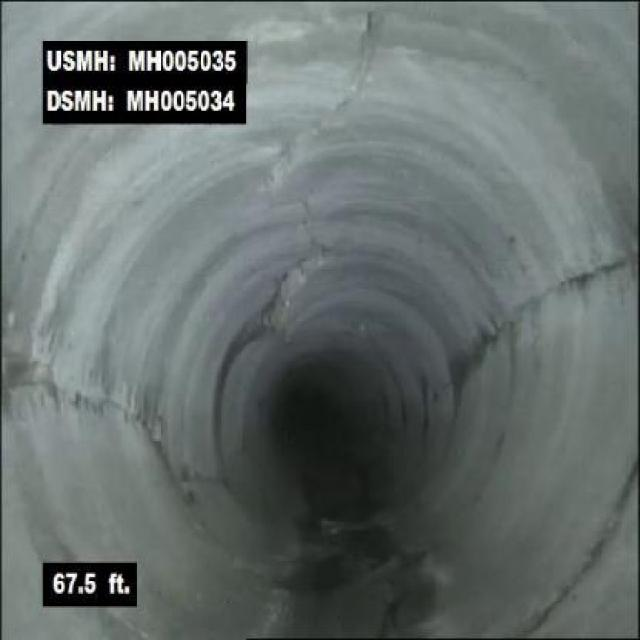Buckling: (262, 109, 342, 340)
Crack: (463, 258, 634, 371), (11, 357, 166, 440), (338, 3, 389, 105), (380, 571, 417, 638)
